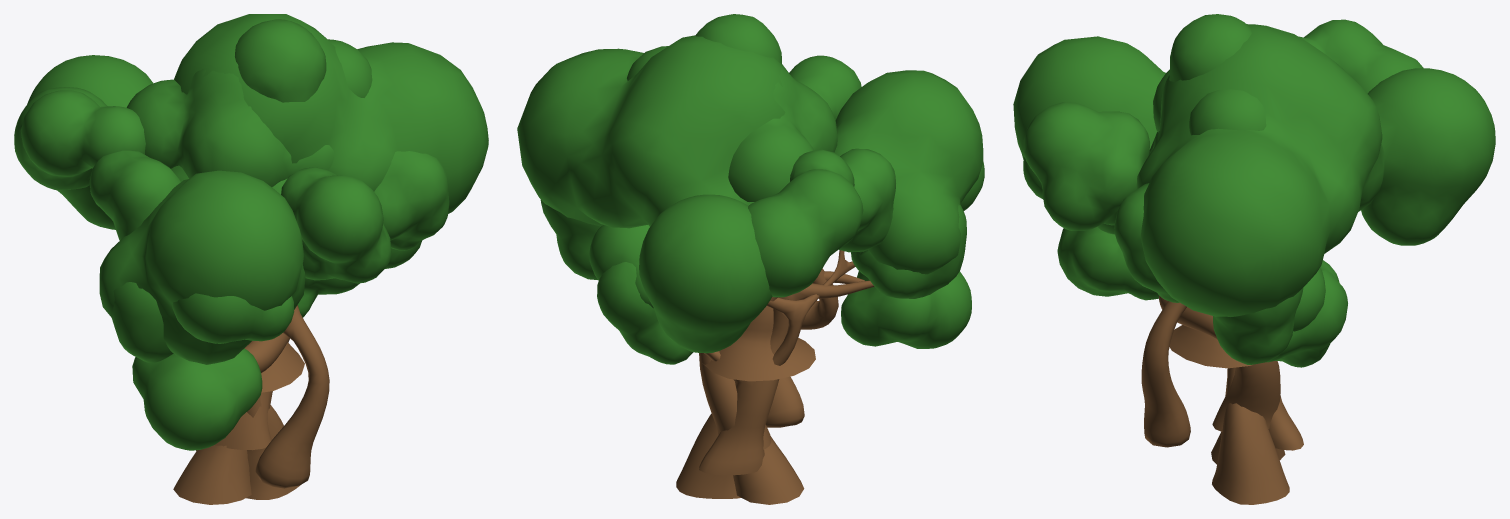
The model's file is Trees.fbx.
3 views of the same model, side by side, from view 1: azimuth 30°, elevation 25°; view 2: azimuth 150°, elevation 25°; view 3: azimuth 270°, elevation 25° (orthographic). The views are drawn at different scales.
Parts seen in each view (by area): view 1: LowPoly Tree 07, LowPoly Tree 04, LowPoly Tree 03, LowPoly Tree 05, LowPoly Tree 06, LowPoly Tree 02; view 2: LowPoly Tree 07, LowPoly Tree 04, LowPoly Tree 05, LowPoly Tree 03, LowPoly Tree 06, LowPoly Tree 02; view 3: LowPoly Tree 07, LowPoly Tree 04, LowPoly Tree 03, LowPoly Tree 05, LowPoly Tree 06, LowPoly Tree 02.
Boxes of the visible parts, left/top/right/bottom form: LowPoly Tree 07: left=99, top=14, right=488, bottom=504; LowPoly Tree 04: left=14, top=39, right=422, bottom=499; LowPoly Tree 03: left=27, top=55, right=449, bottom=488; LowPoly Tree 05: left=89, top=19, right=359, bottom=450; LowPoly Tree 06: left=126, top=69, right=333, bottom=450; LowPoly Tree 02: left=171, top=165, right=304, bottom=392; LowPoly Tree 07: left=517, top=35, right=983, bottom=504; LowPoly Tree 04: left=540, top=46, right=971, bottom=498; LowPoly Tree 05: left=597, top=14, right=966, bottom=475; LowPoly Tree 03: left=639, top=162, right=984, bottom=427; LowPoly Tree 06: left=589, top=64, right=838, bottom=449; LowPoly Tree 02: left=702, top=306, right=815, bottom=381; LowPoly Tree 07: left=1013, top=24, right=1384, bottom=464; LowPoly Tree 04: left=1023, top=19, right=1423, bottom=504; LowPoly Tree 03: left=1022, top=68, right=1495, bottom=447; LowPoly Tree 05: left=1169, top=14, right=1347, bottom=450; LowPoly Tree 06: left=1153, top=69, right=1339, bottom=431; LowPoly Tree 02: left=1148, top=132, right=1252, bottom=368.
Size of the model in its own units: 398 by 443 by 415.
